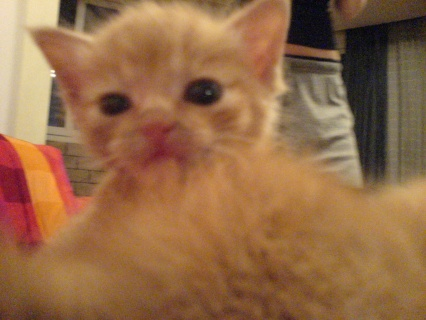Cat: (17, 0, 293, 263)
